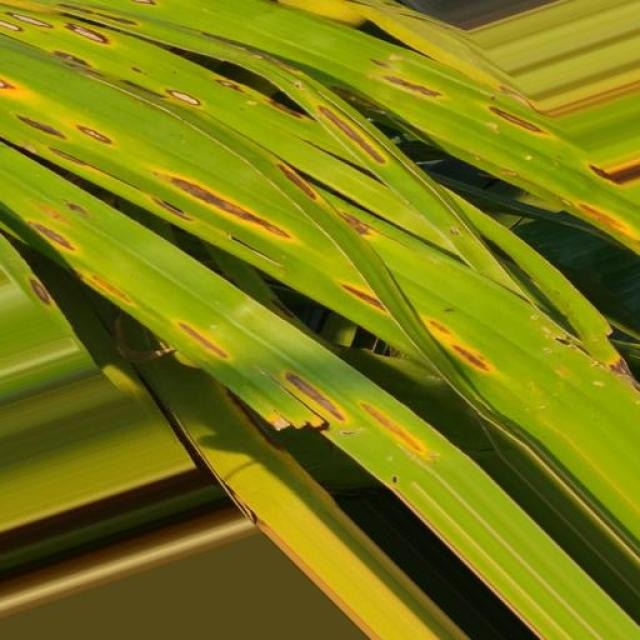Early_rust: (0, 0, 640, 472)
